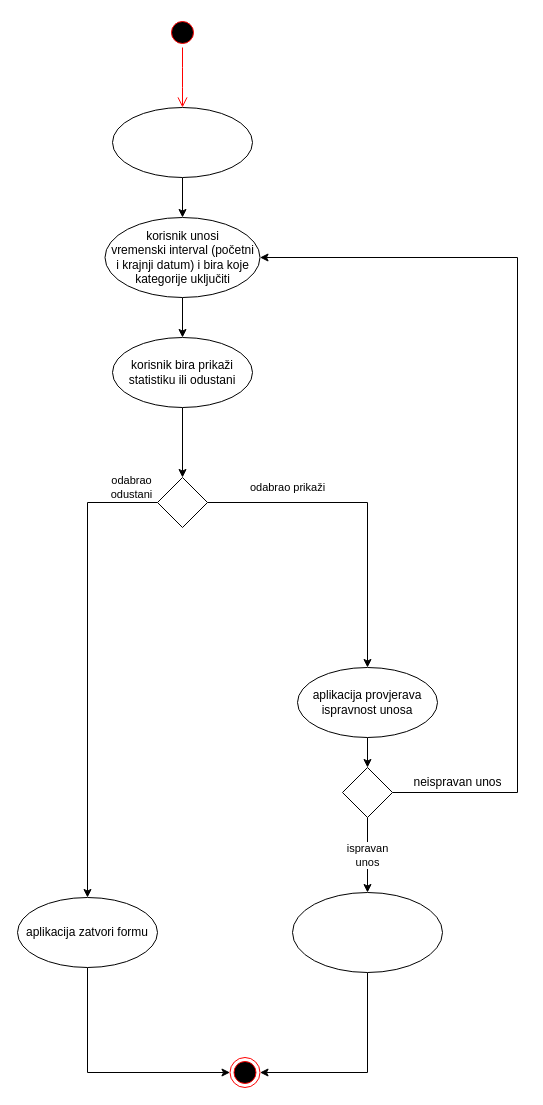
Image size: 543x1105. Some labels were removed from this diagram. Here are the shapes that lost their labels. From the top down, the box of each, then its label:
(112, 106, 252, 178): aplikacija prikaže opcije za prikaz statistike
(292, 892, 442, 972): aplikacija zatvori formu i prikaže statistiku za odabrane parametre
